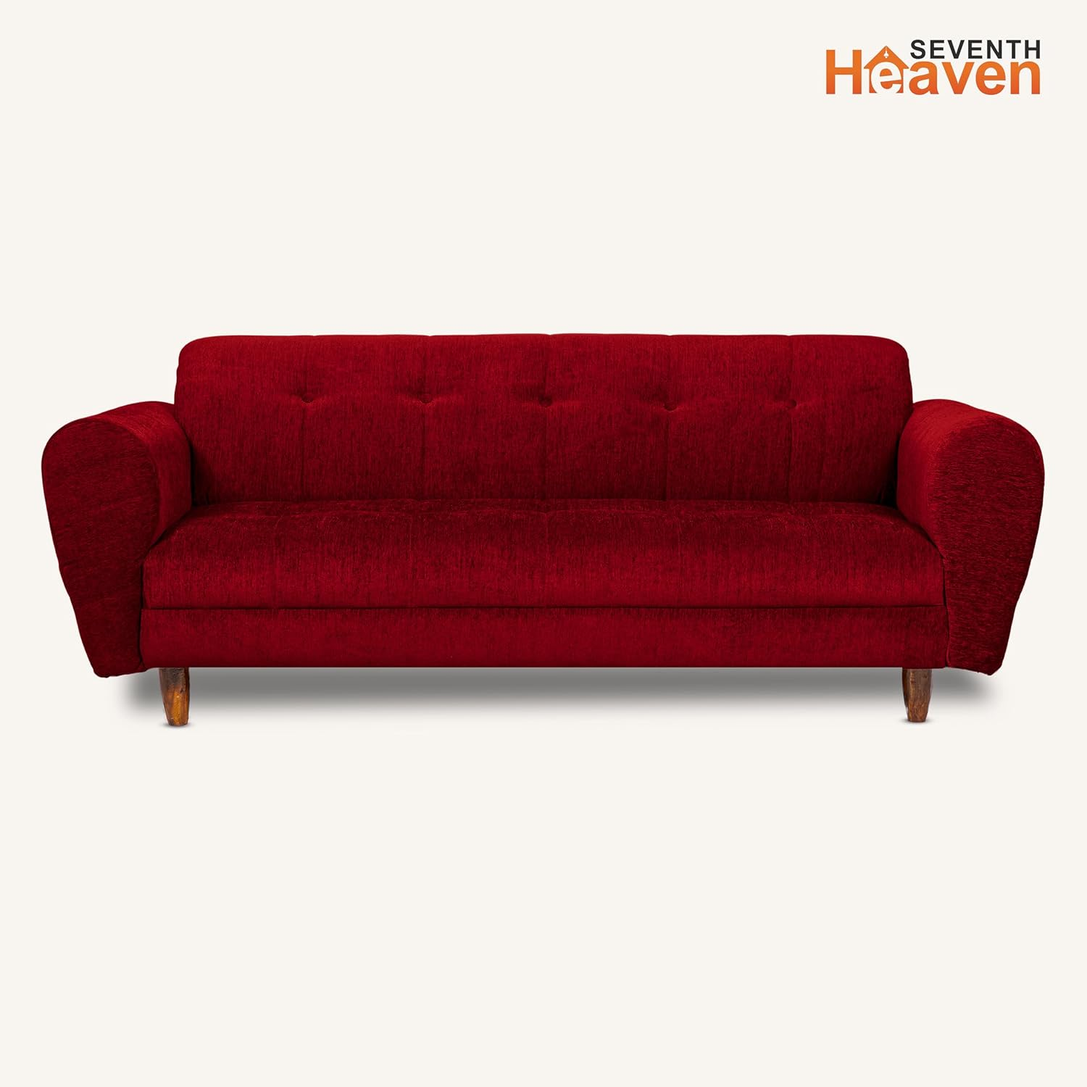backrest: (175, 334, 912, 504)
base: (142, 608, 944, 669)
leftarmrest: (898, 400, 1044, 674)
leg: (159, 667, 188, 725), (902, 668, 931, 722)
rightarmrest: (43, 401, 191, 675)
seat: (143, 499, 942, 611)
